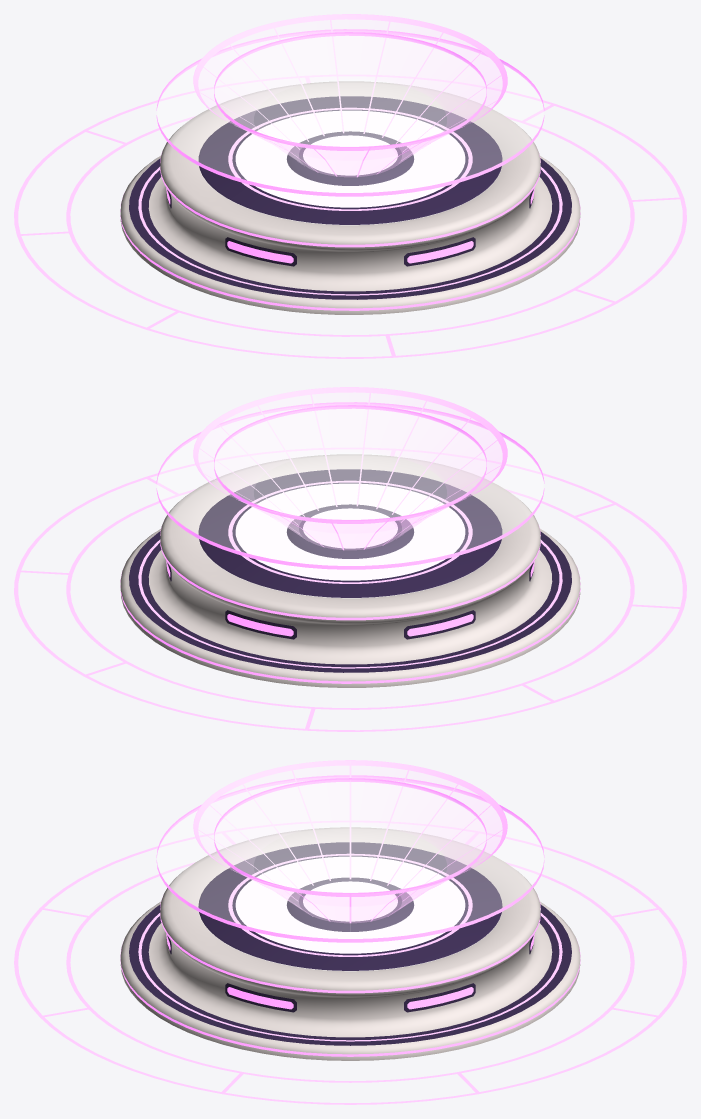
File: island_hub.glb
3 views of the same model, one above another, from view 1: azimuth 30°, elevation 25°; view 2: azimuth 150°, elevation 25°; view 3: azimuth 270°, elevation 25° (orthographic).
Visible parts, largest first — view 1: IHub_Glass, IHub_Body, IHub_Neon, IHub_Beam, IHub_Dark, IHub_Glow; view 2: IHub_Glass, IHub_Body, IHub_Neon, IHub_Beam, IHub_Dark, IHub_Glow; view 3: IHub_Glass, IHub_Body, IHub_Neon, IHub_Beam, IHub_Dark, IHub_Glow.
Boxes of the visible parts, box(x1,y1,x2,y2) form: IHub_Glass: box(157, 31, 543, 192); IHub_Body: box(120, 81, 580, 314); IHub_Neon: box(14, 14, 686, 358); IHub_Beam: box(194, 14, 506, 176); IHub_Dark: box(129, 96, 571, 299); IHub_Glow: box(235, 110, 465, 207); IHub_Glass: box(157, 404, 543, 565); IHub_Body: box(120, 454, 580, 687); IHub_Neon: box(14, 387, 686, 731); IHub_Beam: box(194, 387, 506, 549); IHub_Dark: box(129, 469, 571, 672); IHub_Glow: box(235, 483, 465, 580); IHub_Glass: box(157, 777, 543, 938); IHub_Body: box(120, 827, 580, 1060); IHub_Neon: box(14, 760, 686, 1104); IHub_Beam: box(194, 760, 506, 922); IHub_Dark: box(129, 842, 571, 1045); IHub_Glow: box(235, 856, 465, 953).
Bounding box in the file's own units: 6.44 × 1.45 × 6.44.
